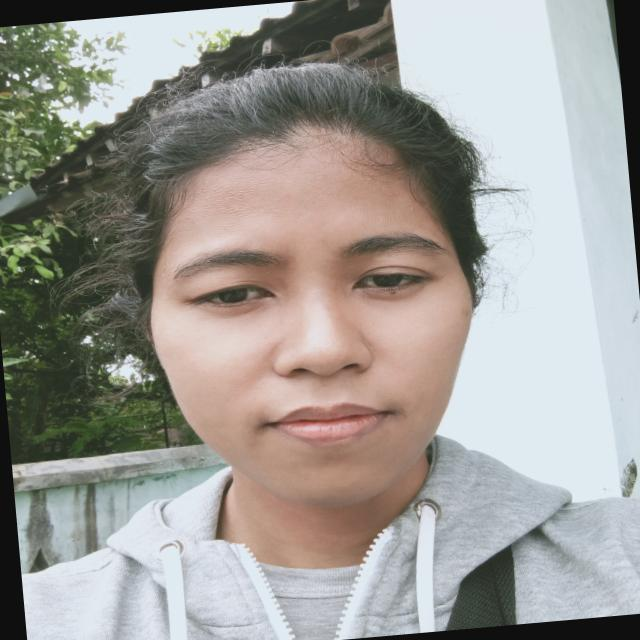eyebrow: (171, 249, 276, 277), (342, 233, 449, 252)
